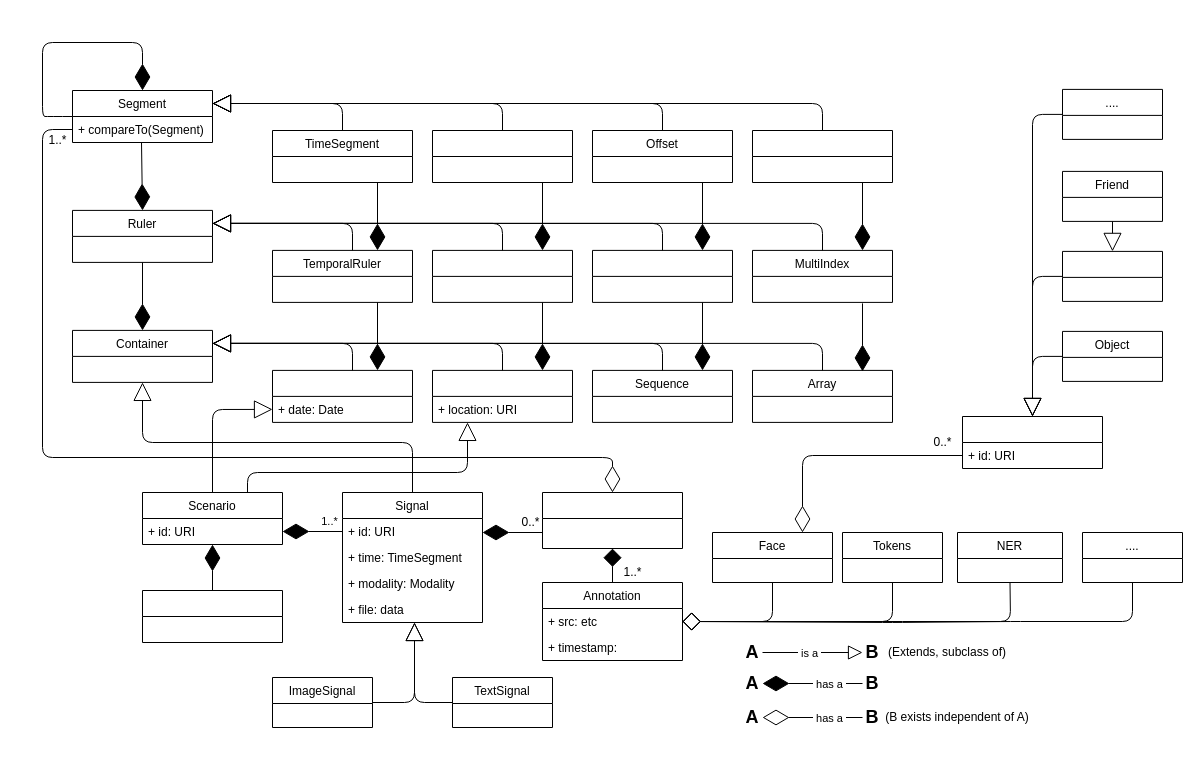
The diagram is 1200 pixels wide and 761 high, and some of its shapes have lost their labels. The box of each missing label's shape, as (x1, y1, x2, y2) in pixels:
Area: (432, 130, 572, 182)
Bounding Box: (752, 130, 892, 182)
Coordinates: (432, 249, 572, 302)
Index: (592, 249, 732, 302)
Instance: (962, 416, 1102, 468)
Mention: (542, 492, 682, 548)
Person: (1062, 250, 1162, 301)
ScenarioAttributes: (142, 590, 282, 642)
SpacialContainer: (432, 369, 572, 422)
TemporalContainer: (272, 369, 412, 422)
